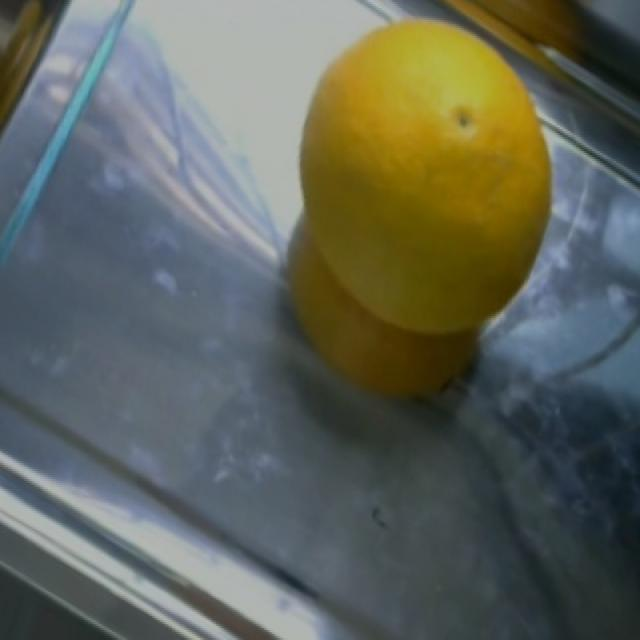Fruit: (280, 0, 569, 310), (0, 0, 65, 187)
